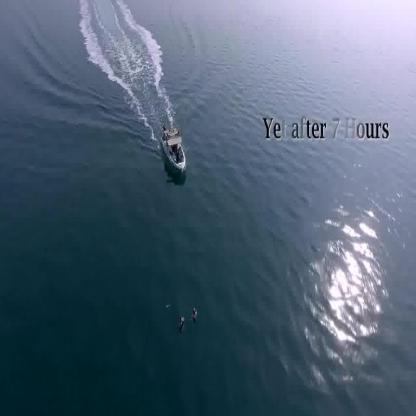Boat: (160, 124, 184, 172)
